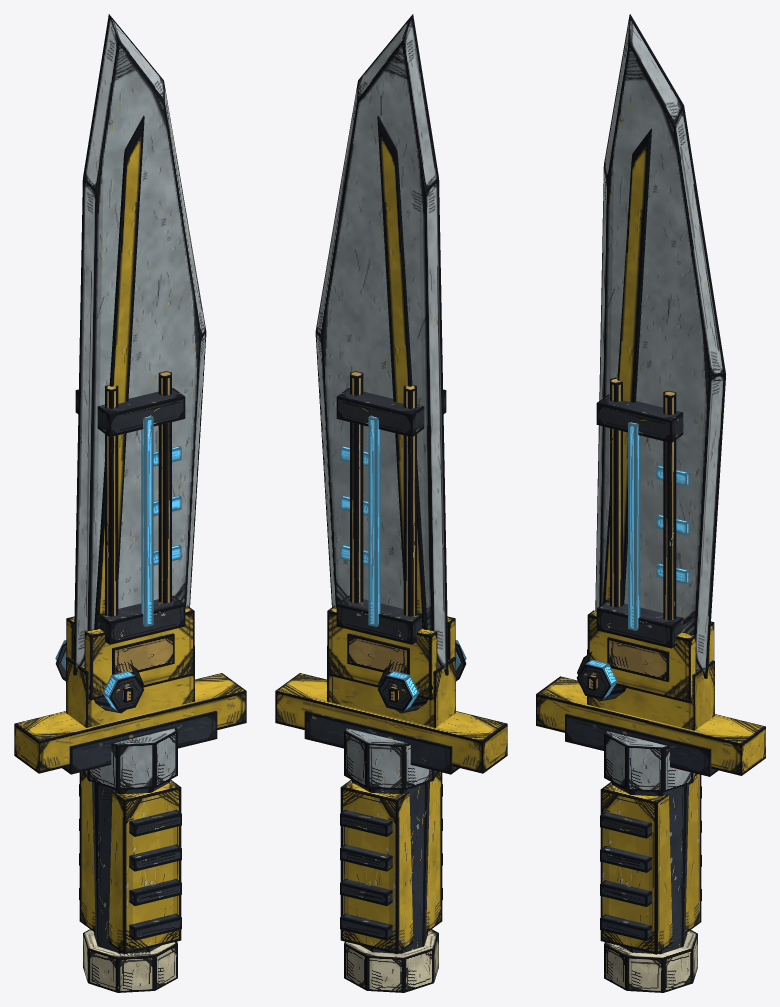
Rendered from 01_Ronin.glb.
3 renders of one model, left to right at view 1: azimuth 30°, elevation 25°; view 2: azimuth 150°, elevation 25°; view 3: azimuth 330°, elevation 25°, orthographic.
Parts seen in each view (by area): view 1: blade_hyperion, grip_hyperion, FACE_FRONT (×2); view 2: blade_hyperion, grip_hyperion, FACE_BACK (×2); view 3: blade_hyperion, grip_hyperion, FACE_FRONT (×2).
Part boxes in pixels (x1,y1,x2,y2): blade_hyperion: [14, 14, 246, 774]; grip_hyperion: [79, 728, 181, 992]; FACE_FRONT (×2): [89, 371, 185, 713]; blade_hyperion: [275, 14, 507, 774]; grip_hyperion: [340, 728, 442, 992]; FACE_BACK (×2): [336, 371, 432, 713]; blade_hyperion: [536, 14, 765, 776]; grip_hyperion: [600, 730, 701, 992]; FACE_FRONT (×2): [576, 377, 683, 701].
Bounding box in the file's own units: 0.44 × 1.95 × 0.2175.
7 materials, 7 textured.
